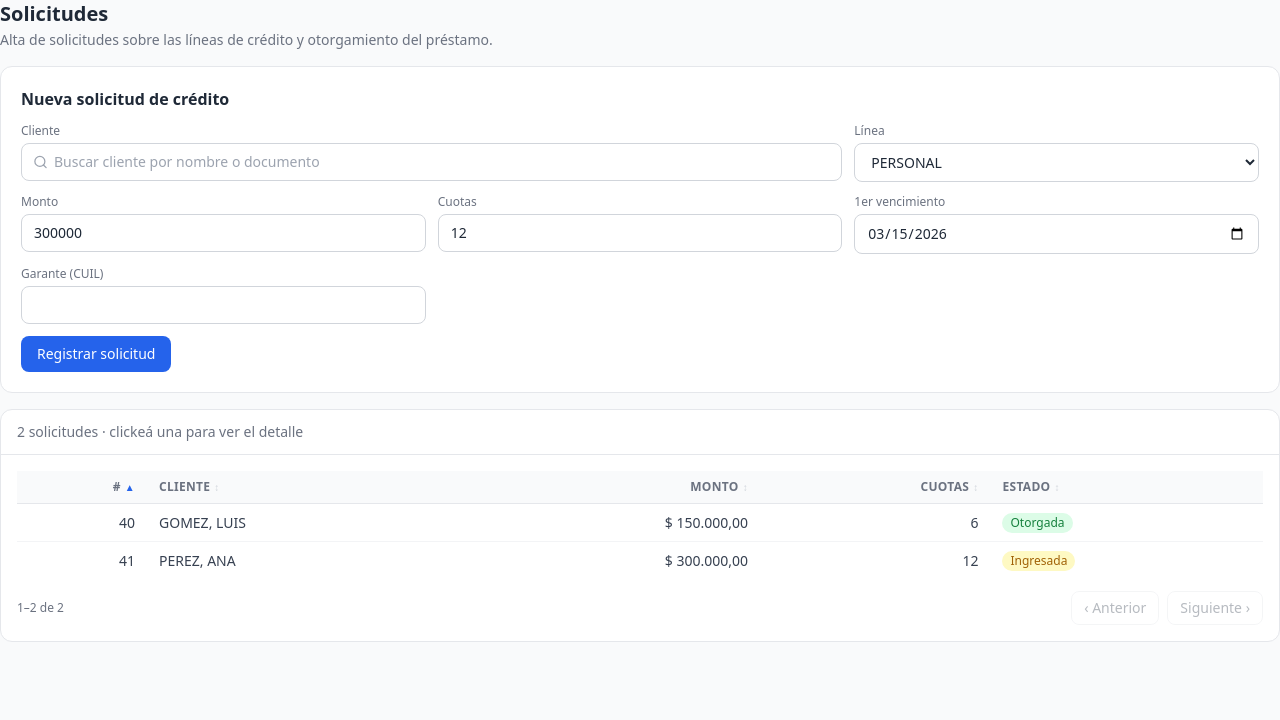
Test: Solicitudes › abre el detalle y otorga el crédito mostrando el plan
Click the text "PEREZ, ANA".
click(197, 560)  # box left=147, top=542, right=459, bottom=579
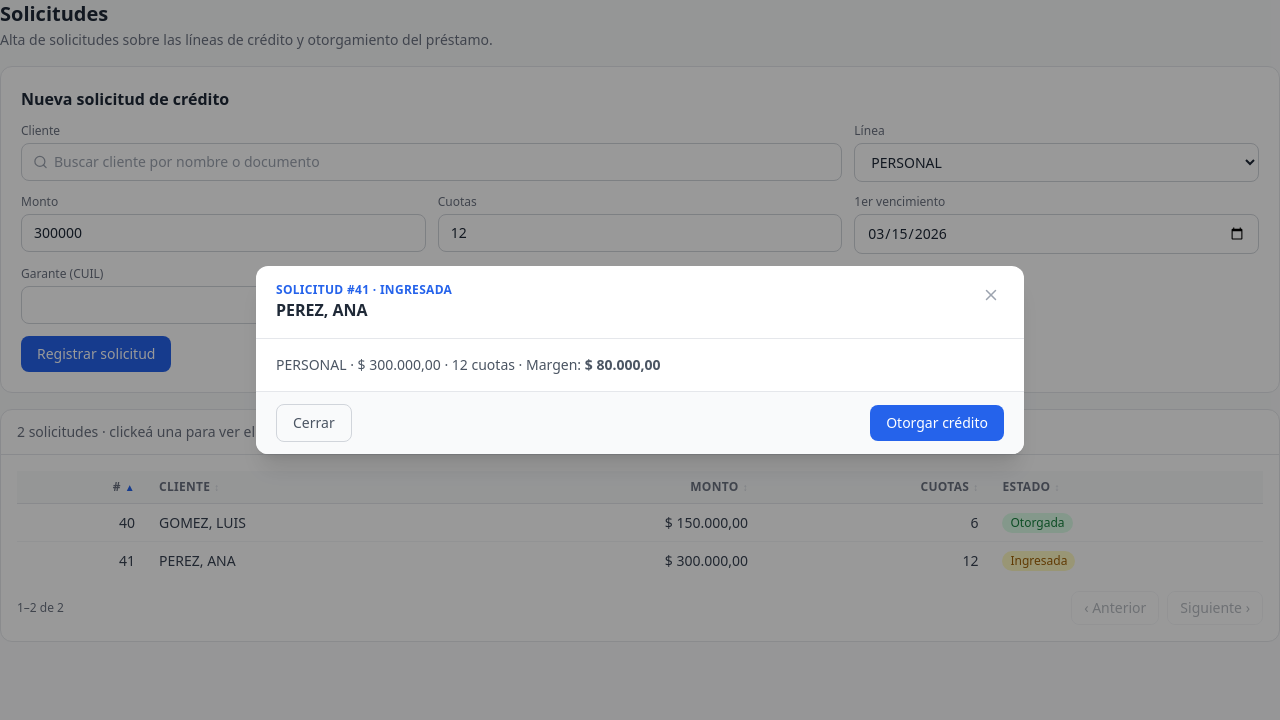
Click the button "Otorgar crédito".
click(937, 423)  # box left=870, top=405, right=1004, bottom=441
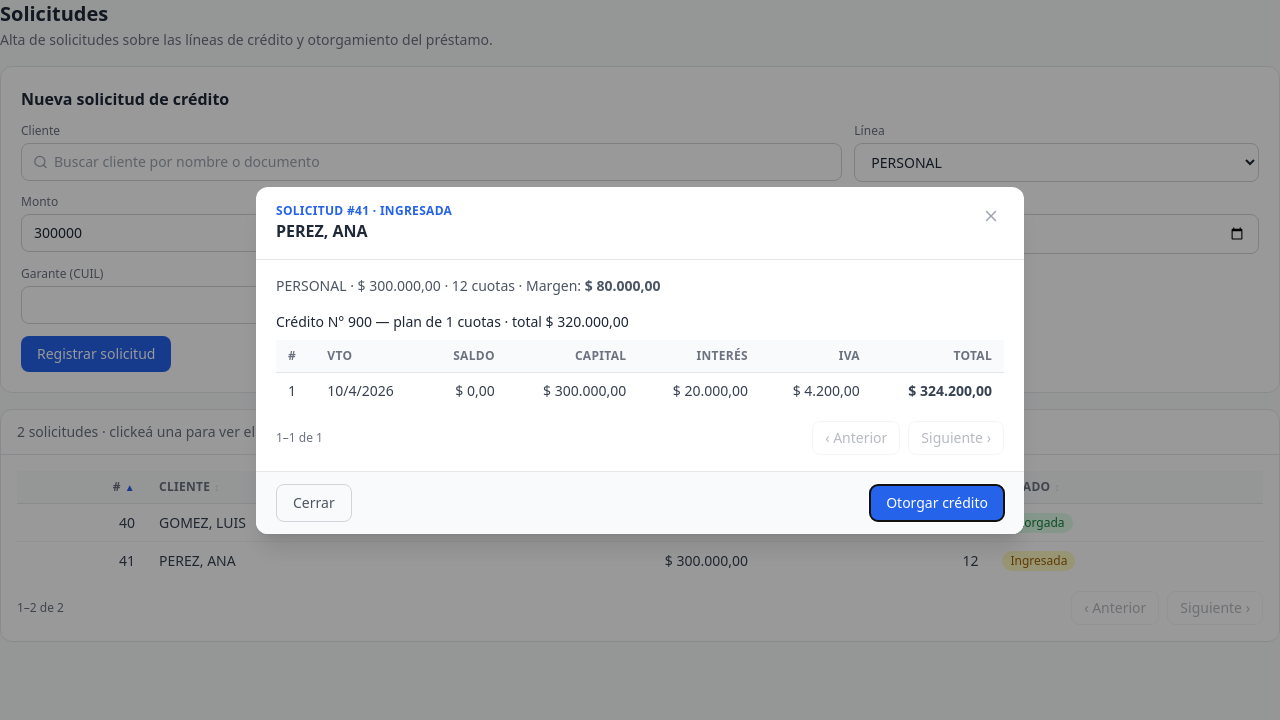
Expected: the text "Crédito N° 900 — plan de 1 cuotas · total $ 320.000,00" is shown, left=276, top=312, right=629, bottom=330
